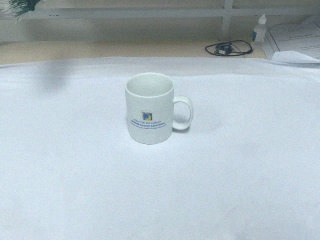bottle: (251, 14, 267, 50)
cup: (123, 71, 195, 146)
